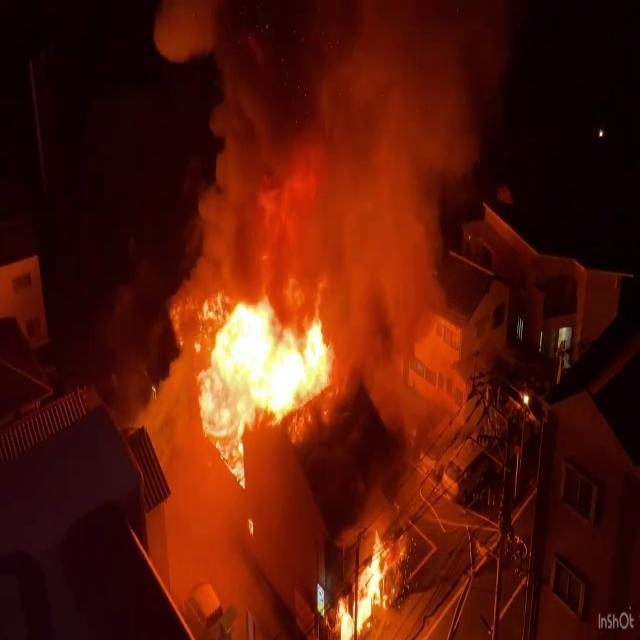Fire: (189, 275, 340, 485), (332, 524, 397, 638)
Smoke: (225, 0, 498, 317)
